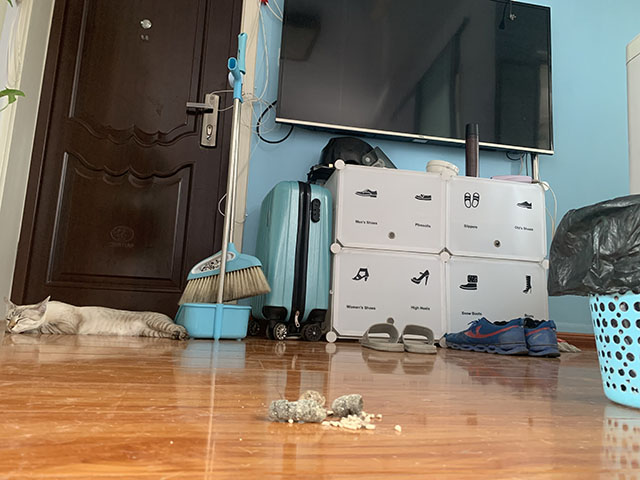cabinet: (323, 157, 549, 345)
feces: (266, 387, 328, 423), (330, 392, 364, 417)
slippers: (357, 322, 438, 355)
trashcan: (546, 193, 640, 412)
